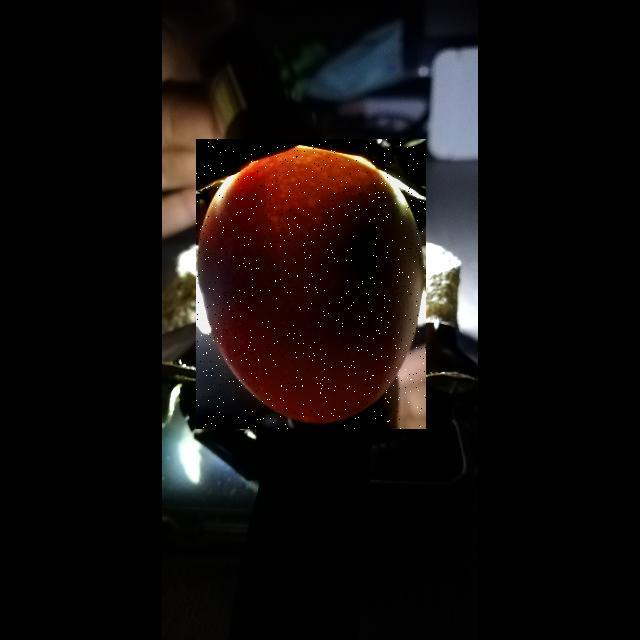Fertile: (196, 139, 426, 429)
